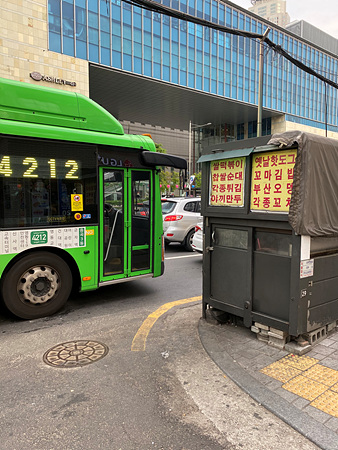entrance: (99, 165, 158, 280)
